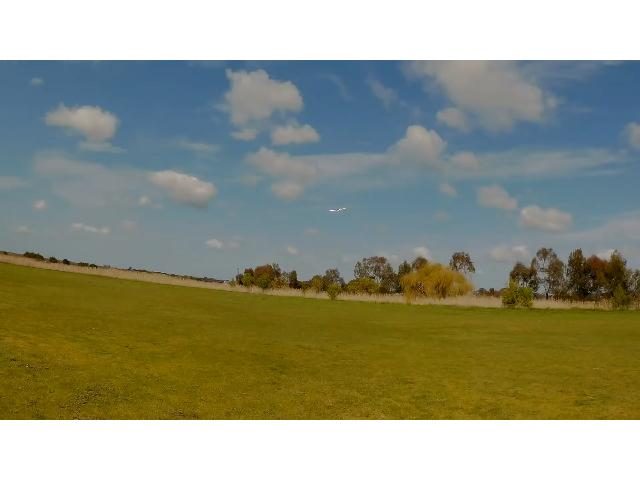Anti-Drone: (330, 207, 346, 211)
